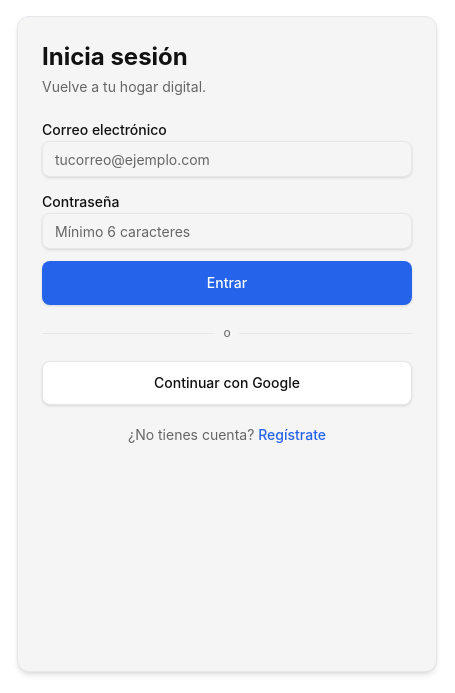
Test: AuthView (base) — login › valida que el email no esté vacío
What coordinates should you click on to do the following:
click the button "Entrar"
I would click on:
 (227, 283)
Its box is [42, 261, 412, 305].
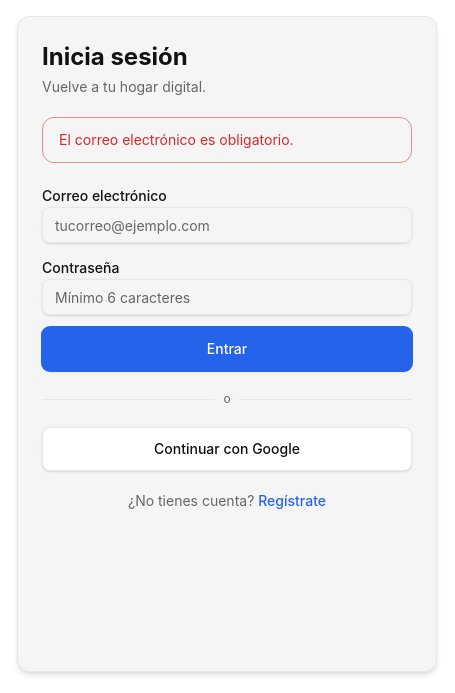
Result: the message shows "correo electrónico es obligatorio" at [59, 131, 294, 148]
